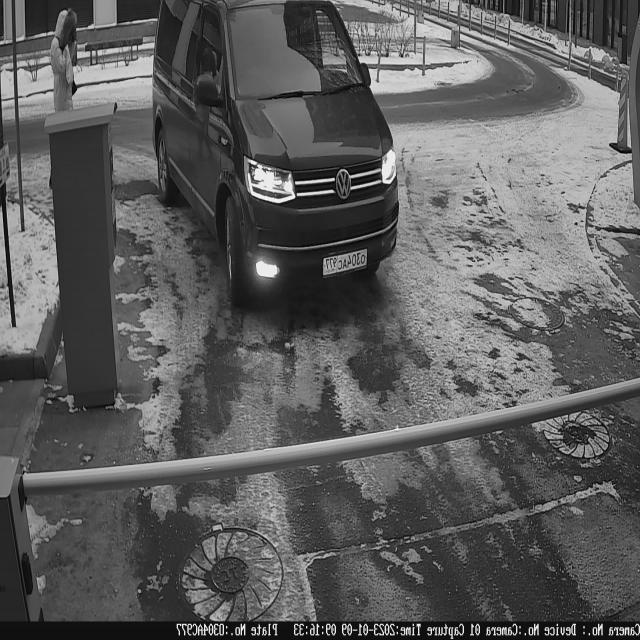car-plate-numbers: (321, 243, 373, 280)
